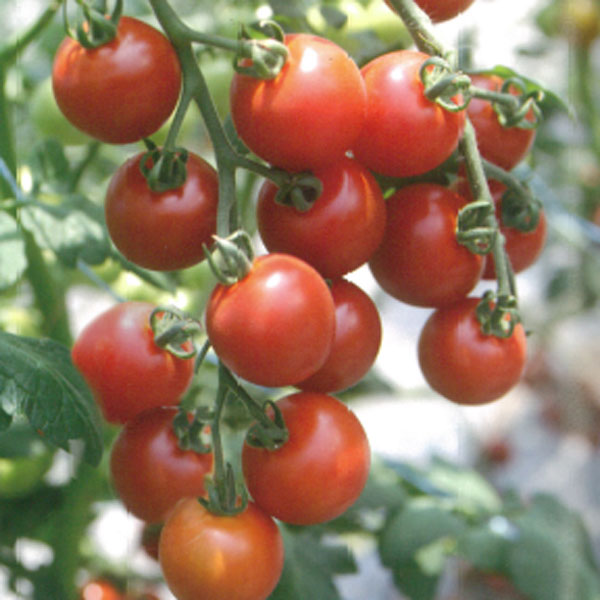stems: (183, 24, 268, 66), (233, 151, 301, 197), (230, 374, 274, 439), (484, 159, 532, 212), (160, 93, 190, 172), (214, 193, 237, 281), (465, 81, 524, 114), (213, 424, 226, 509), (487, 301, 513, 329)
tomato: (230, 33, 367, 171), (239, 391, 372, 529), (204, 252, 337, 388), (50, 12, 183, 144), (344, 47, 468, 179), (255, 154, 387, 277), (72, 299, 197, 427), (105, 145, 230, 272), (366, 181, 486, 307), (109, 405, 225, 527), (158, 492, 287, 600), (264, 276, 381, 395), (415, 297, 530, 405), (460, 74, 539, 172), (483, 179, 545, 280)
